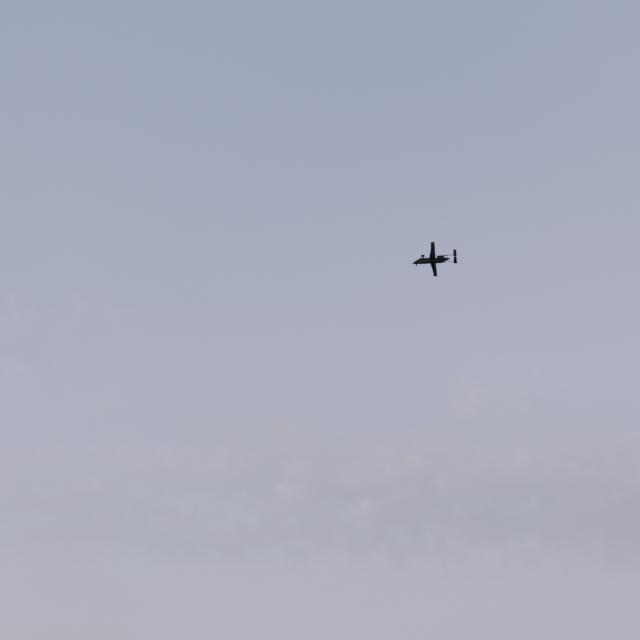Airaplan: (412, 242, 457, 277)
